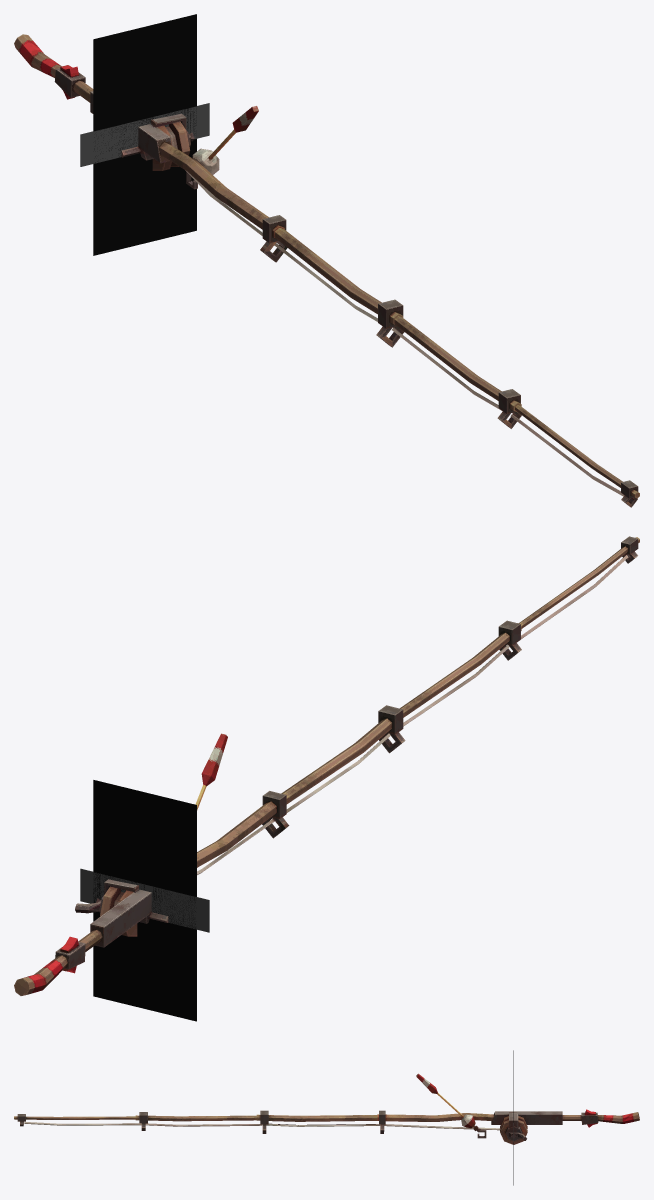
The model's file is item_basic_fishing_rod.glb.
3 views of the same model, one above another, from view 1: azimuth 30°, elevation 25°; view 2: azimuth 150°, elevation 25°; view 3: azimuth 270°, elevation 25° (orthographic). The views are drawn at different scales.
Parts seen in each view (by area): view 1: Cube (×3), FishingRod, FishingReel, Bobber; view 2: Cube (×3), FishingRod, FishingReel, Bobber; view 3: FishingRod, FishingReel, Bobber.
Boxes of the visible parts, x1,y1,x2,y2 form: Cube (×3): [80, 14, 209, 255]; FishingRod: [14, 34, 639, 507]; FishingReel: [121, 121, 194, 170]; Bobber: [192, 106, 258, 174]; Cube (×3): [80, 780, 209, 1021]; FishingRod: [14, 536, 639, 995]; FishingReel: [75, 886, 168, 936]; Bobber: [195, 733, 227, 810]; FishingRod: [14, 1110, 639, 1141]; FishingReel: [500, 1116, 527, 1144]; Bobber: [416, 1073, 475, 1128].
Size of the model in its own units: 0.25 by 0.4 by 2.07.
Materials: 3 (1 with a texture image).
